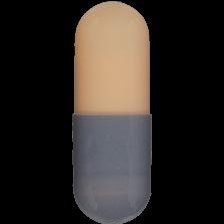76413-115: (0, 0, 224, 224)
